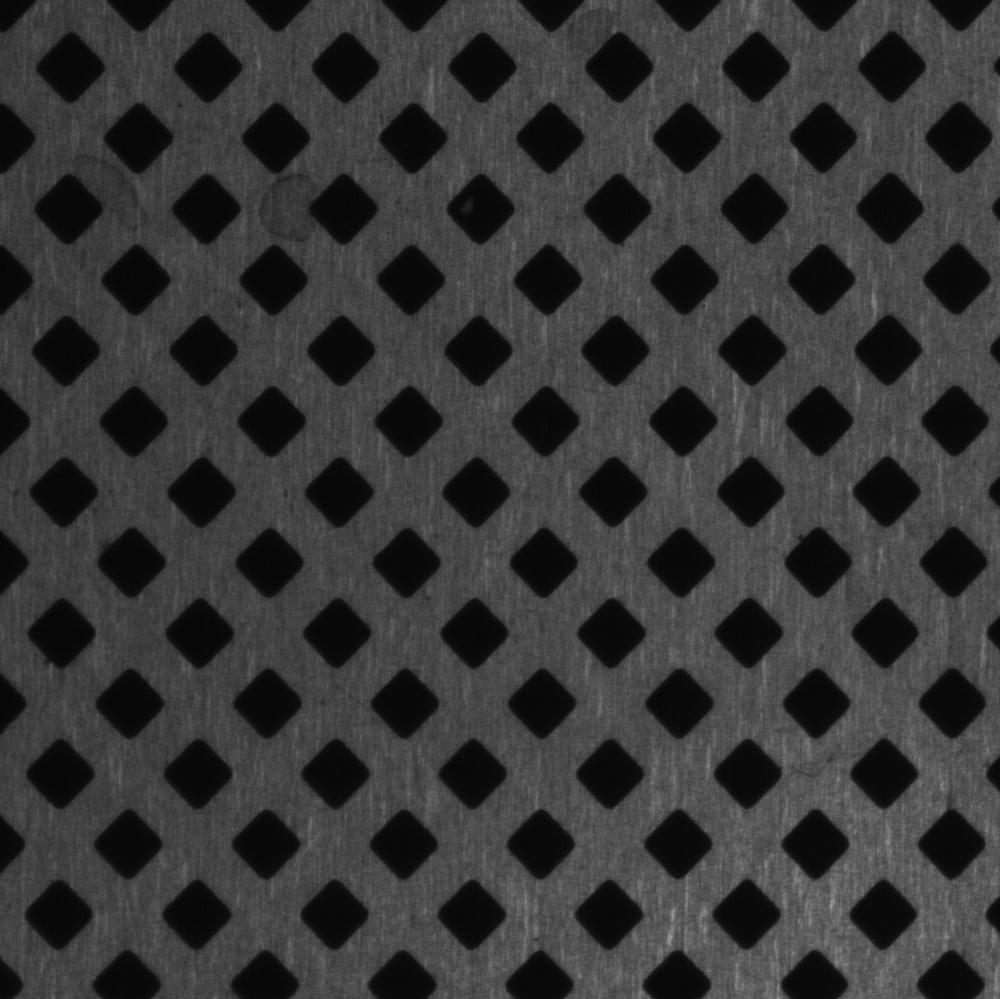Discolor: (59, 140, 156, 245), (246, 162, 336, 247)
